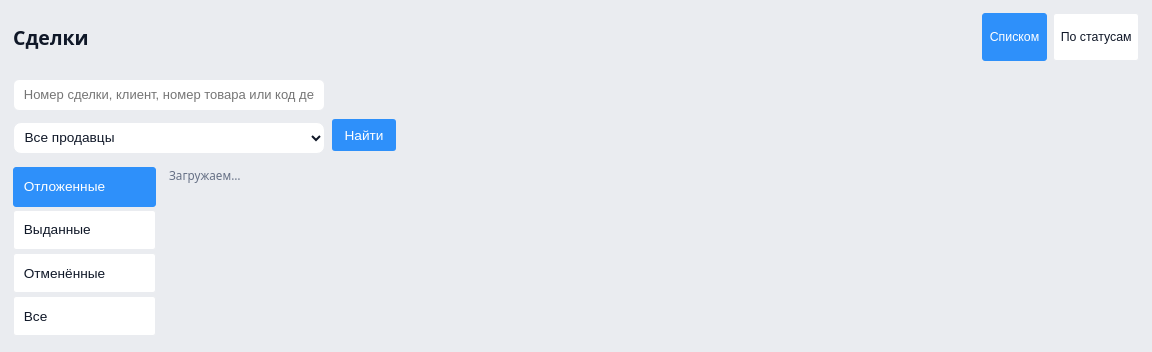
Test: доска сделок по состояниям › отказ сервера не выдаётся за пустую доску
This screenshot has width=1152, height=352.
What coordinates should you click on to do the following:
click the button "По статусам"
I would click on:
 (1096, 37)
Its box is 1053,13 -> 1139,61.
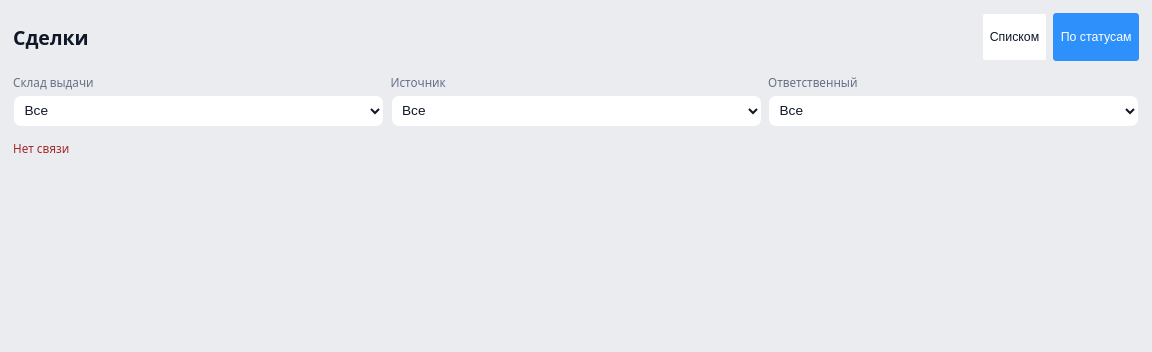
Expected: the dropdown labelled "Склад выдачи" is shown, 13,94 -> 384,126
Now the text "Нет связи" is shown, box 13,140 -> 69,156
Now the text "Загружаем…" is gone
